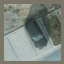car: (25, 19, 47, 48)
